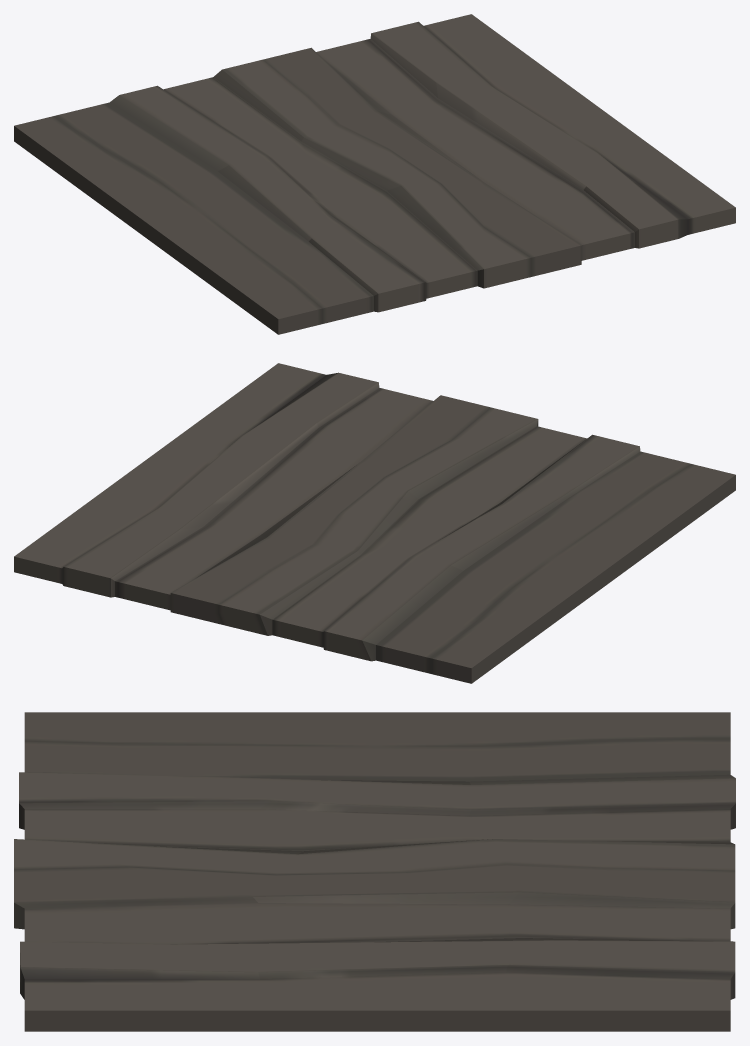
The model's file is SM_Env_Mine_Track_Base_02.glb.
3 views of the same model, one above another, from view 1: azimuth 30°, elevation 25°; view 2: azimuth 150°, elevation 25°; view 3: azimuth 270°, elevation 25° (orthographic). The views are drawn at different scales.
Parts seen in each view (by area): view 1: SM_Env_Mine_Track_Base_02; view 2: SM_Env_Mine_Track_Base_02; view 3: SM_Env_Mine_Track_Base_02.
Part boxes in pixels (box(x1,y1,x2,y2)): SM_Env_Mine_Track_Base_02: box(14, 14, 735, 334); SM_Env_Mine_Track_Base_02: box(14, 363, 735, 683); SM_Env_Mine_Track_Base_02: box(14, 712, 735, 1031).
Bounding box in the file's own units: 3 × 0.121 × 3.07.
Materials: 1 (1 with a texture image).
